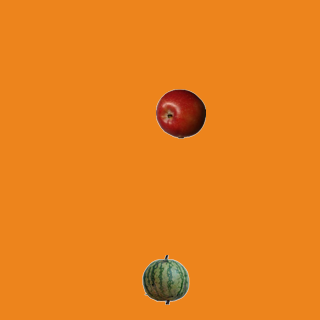Apple Braeburn: (155, 88, 205, 138)
Watermelon: (140, 254, 190, 304)
